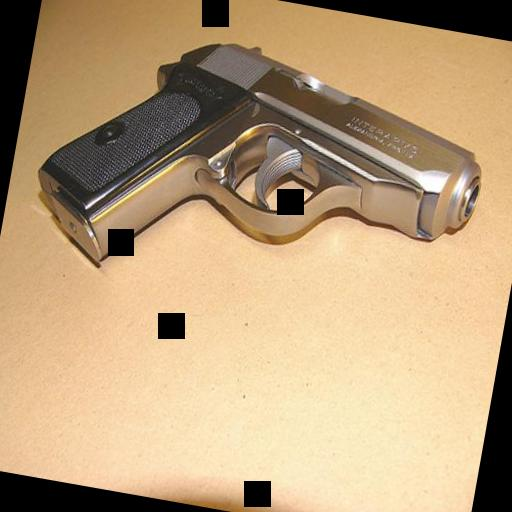Handgun: (20, 8, 498, 328)
